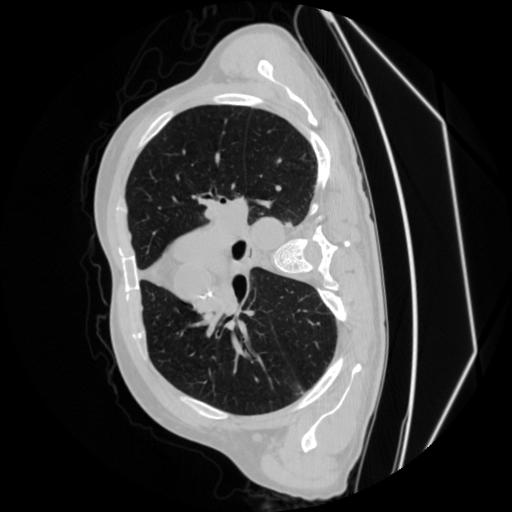nodule: (282, 219, 296, 233)
